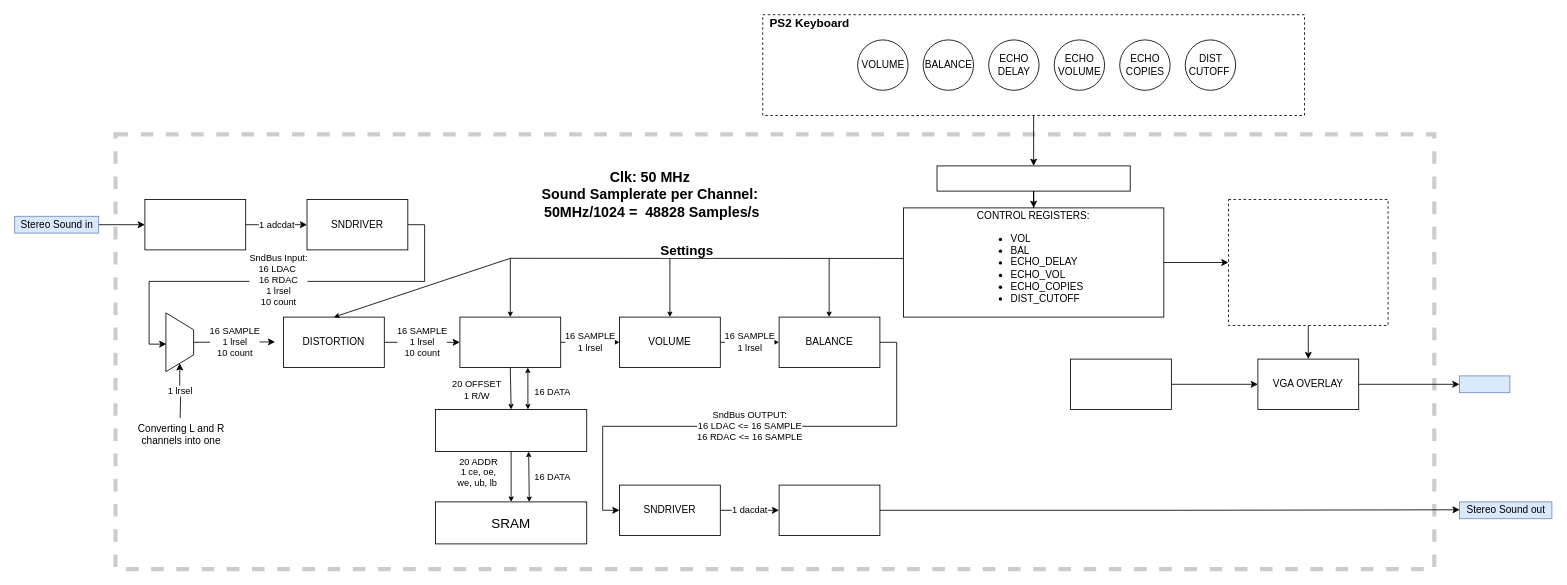
The diagram is 1567 pixels wide and 585 high, and some of its shapes have lost their labels. Each missing label, with the box of its shape:
ADC: (144, 199, 246, 250)
DAC: (778, 484, 880, 536)
ECHO GENERATOR: (459, 316, 561, 368)
PICTURE (ROM): (1070, 358, 1171, 410)
PS/2 Decoder: (936, 165, 1130, 191)
Settings to display: VOL BAL ECHO_DELAY ECHO_VOL ECHO_COPIES DIST_CUTOFF: (1228, 199, 1388, 326)
SRAM Controller: (435, 409, 587, 452)
VGA out: (1459, 375, 1510, 393)
